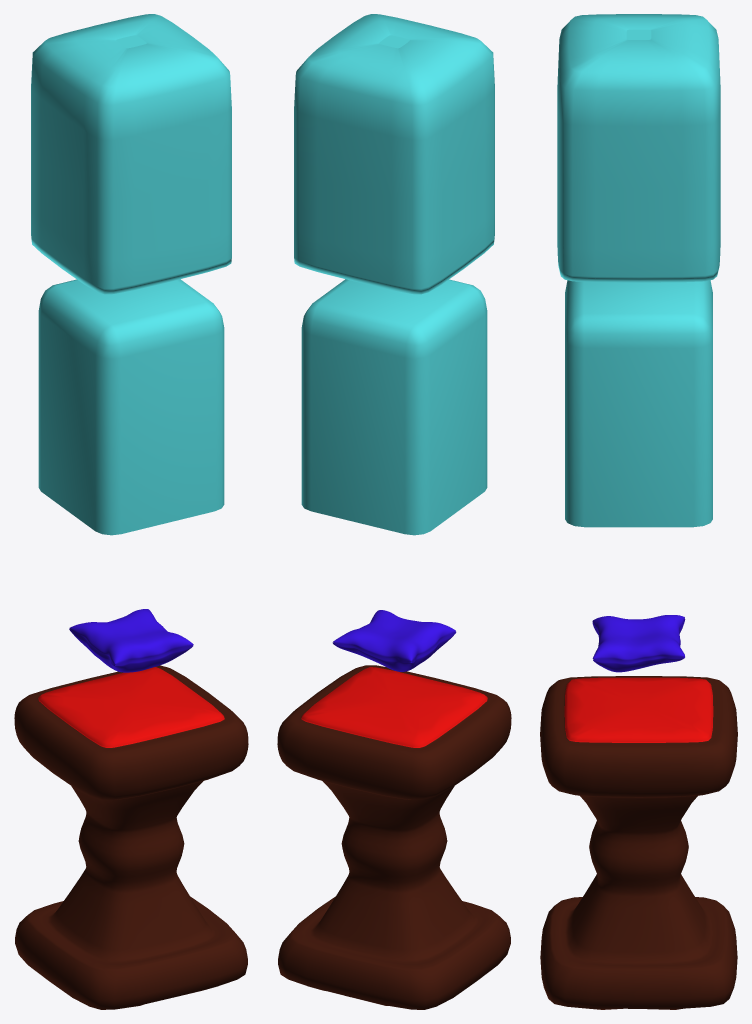
The model's file is Cabinetf_small.fbx.
3 renders of one model, left to right at view 1: azimuth 30°, elevation 25°; view 2: azimuth 150°, elevation 25°; view 3: azimuth 270°, elevation 25°, orthographic.
Visible parts, largest first — view 1: Cube, Cube.001, Cube.002, Plane; view 2: Cube, Cube.001, Cube.002, Plane; view 3: Cube, Cube.001, Cube.002, Plane.
Part boxes in pixels (x1,y1,x2,y2): Cube: (14, 665, 248, 1009); Cube.001: (31, 14, 231, 294); Cube.002: (38, 279, 224, 535); Plane: (69, 609, 193, 672); Cube: (277, 665, 511, 1009); Cube.001: (294, 14, 494, 294); Cube.002: (301, 279, 487, 535); Plane: (332, 610, 456, 671); Cube: (540, 676, 737, 1009); Cube.001: (557, 14, 720, 282); Cube.002: (565, 280, 712, 527); Plane: (592, 615, 685, 672).
Size of the model in its own units: 199 by 1049 by 199.
